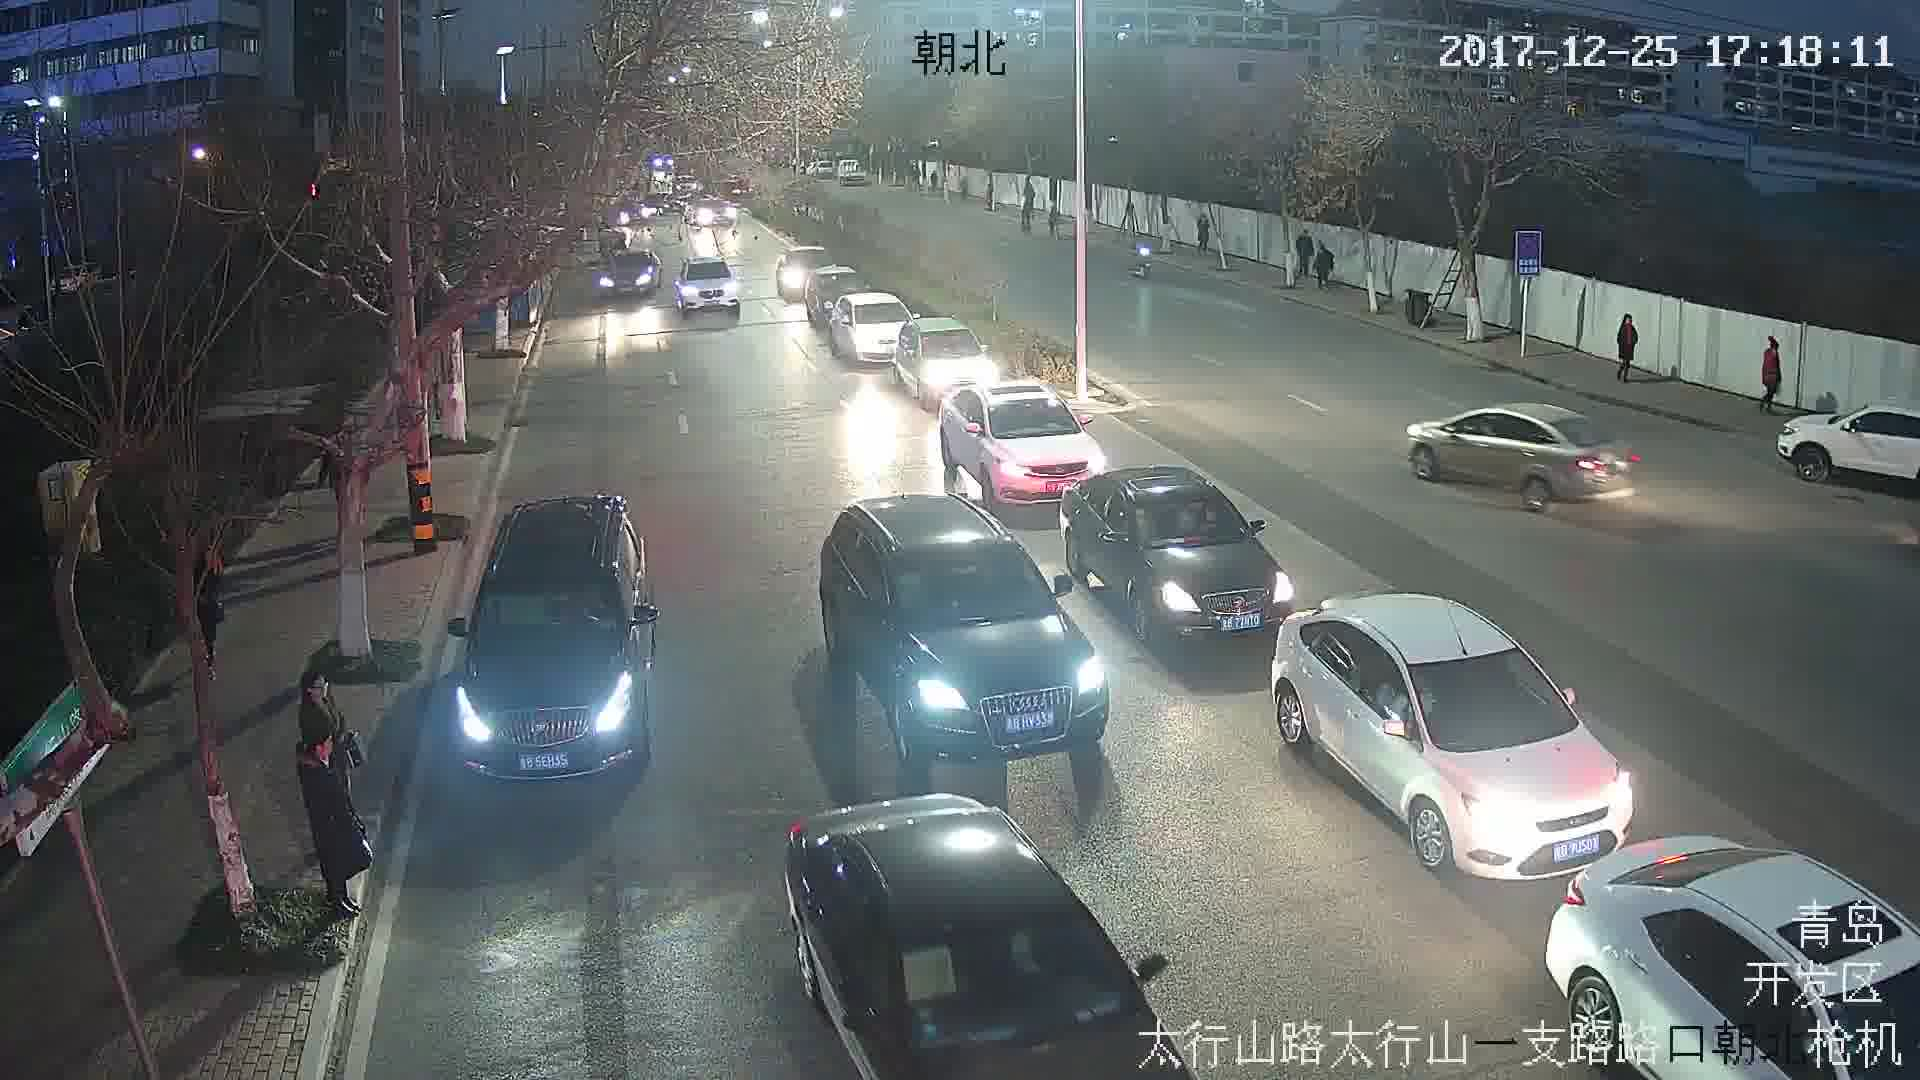car: (1277, 594, 1637, 877), (823, 494, 1109, 773), (452, 495, 660, 785), (1066, 463, 1295, 637), (1409, 402, 1641, 516), (938, 382, 1099, 506), (678, 256, 741, 317), (599, 250, 664, 300)
person: (302, 735, 370, 917), (299, 671, 364, 773), (1759, 334, 1780, 409), (1616, 310, 1632, 382)
